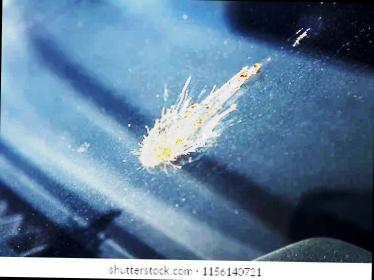Bird Poop: (139, 64, 259, 168), (293, 28, 309, 46)
